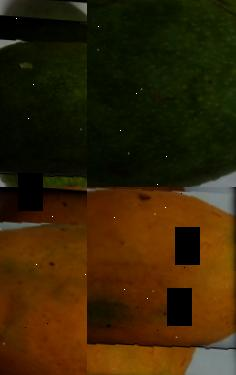Ripe: (87, 187, 236, 375), (0, 187, 87, 375)
Unripe: (87, 0, 236, 187), (0, 16, 87, 187)
